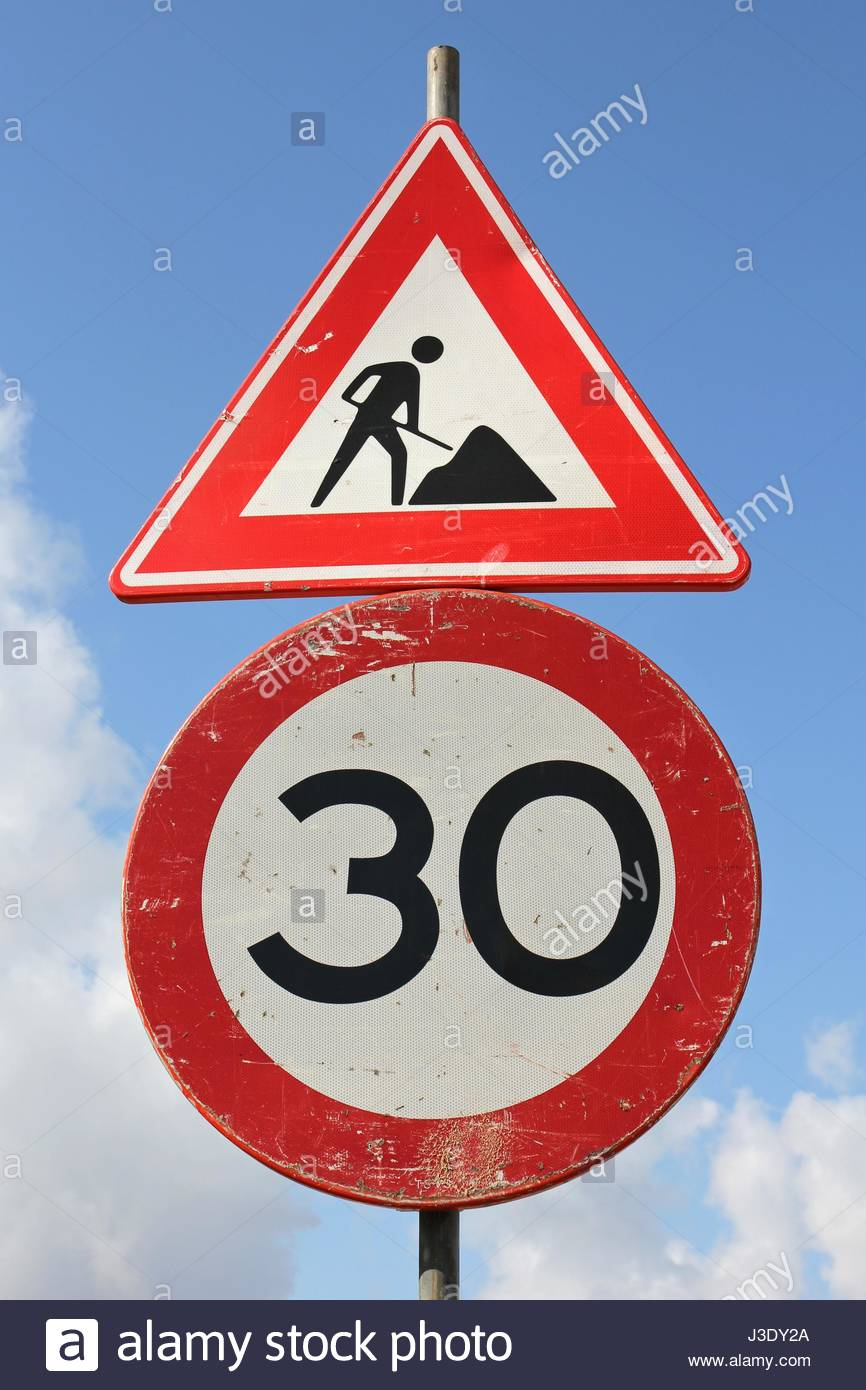Speed_limit_30km: (93, 592, 768, 1205)
